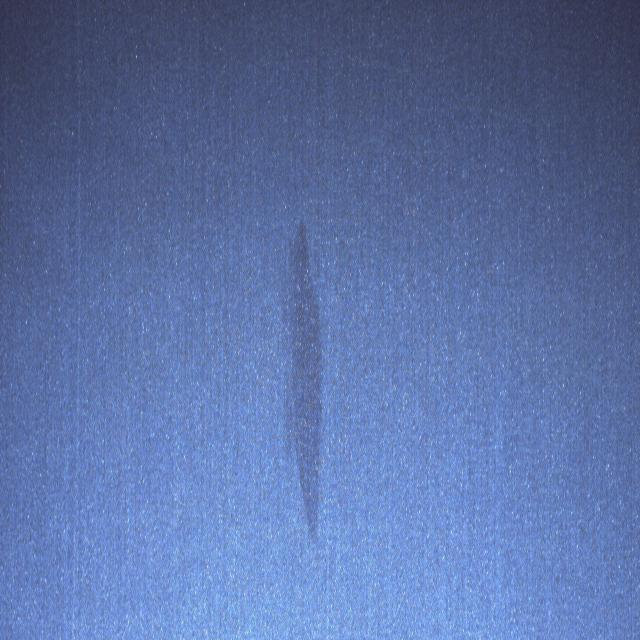Stain: (290, 224, 323, 542)
